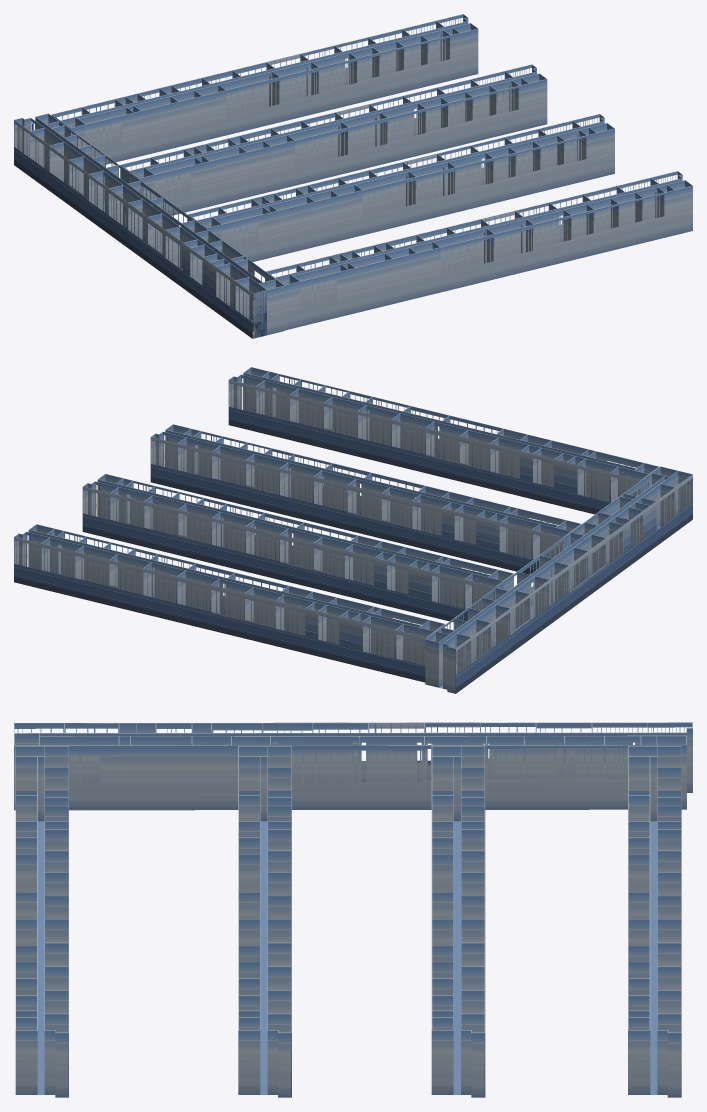
The model's file is IMT_ESPACE_ECOLE_STRUCTURE_COMPRESSED.glb.
3 renders of one model, top to bottom at view 1: azimuth 30°, elevation 25°; view 2: azimuth 150°, elevation 25°; view 3: azimuth 270°, elevation 25°, orthographic. The views are drawn at different scales.
Parts seen in each view (by area): view 1: BLOC B, BLOC D, BLOC E, BLOC C, BLOC A; view 2: BLOC E, BLOC C, BLOC D, BLOC B, BLOC A; view 3: BLOC A, BLOC D, BLOC E, BLOC B, BLOC C.
Boxes of the visible parts, x1,y1,x2,y2 form: BLOC B: (266, 171, 692, 330); BLOC D: (120, 64, 547, 215); BLOC E: (51, 14, 478, 164); BLOC C: (188, 114, 614, 261); BLOC A: (14, 113, 284, 338); BLOC E: (14, 524, 444, 682); BLOC C: (150, 424, 581, 574); BLOC D: (82, 474, 513, 622); BLOC B: (228, 367, 659, 514); BLOC A: (425, 466, 692, 693); BLOC A: (14, 722, 692, 810); BLOC D: (431, 746, 485, 1097); BLOC E: (628, 746, 681, 1097); BLOC B: (15, 746, 68, 1097); BLOC C: (238, 746, 291, 1097).
Bounding box in the file's own units: 156 × 15.18 × 145.
35 materials, 5 textured.
